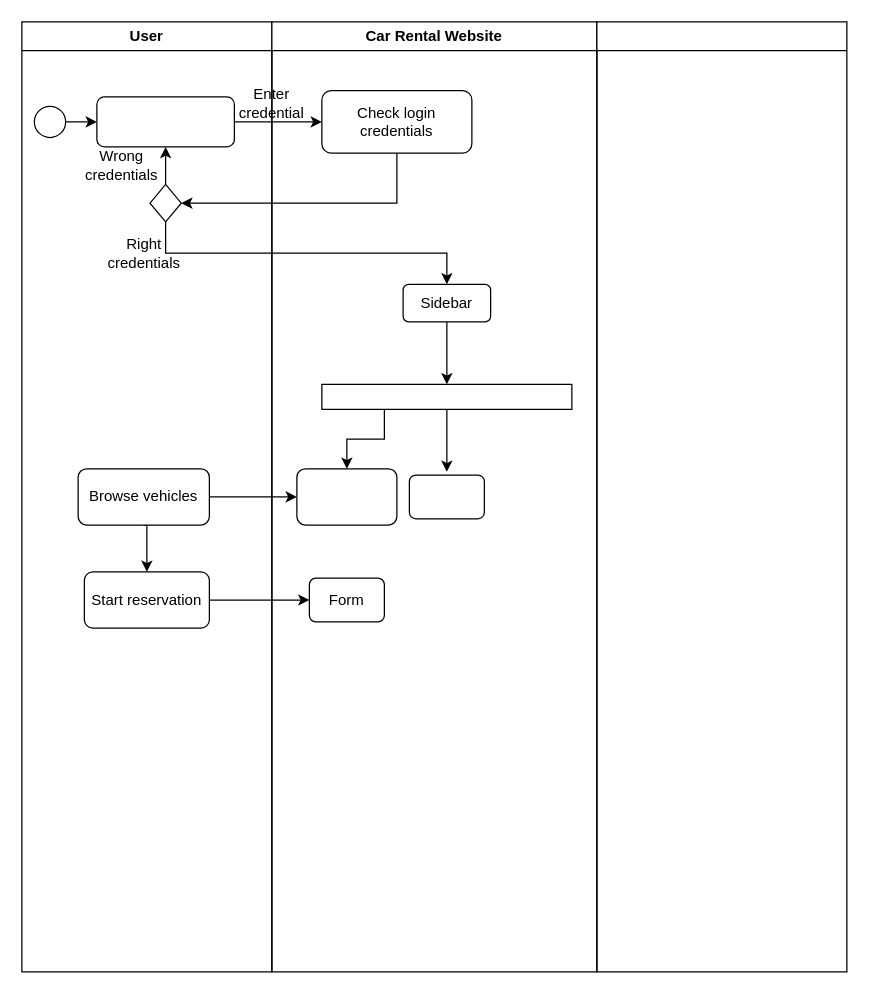
Some shapes in this 869 by 994 pixel diagram are drawn without their labels. Here are the shapes that lost their labels. From the top down, the centre of each, then its label:
the point at 165,121: Login
the point at 346,496: Car listing
the point at 446,496: View
the point at 721,496: Database
